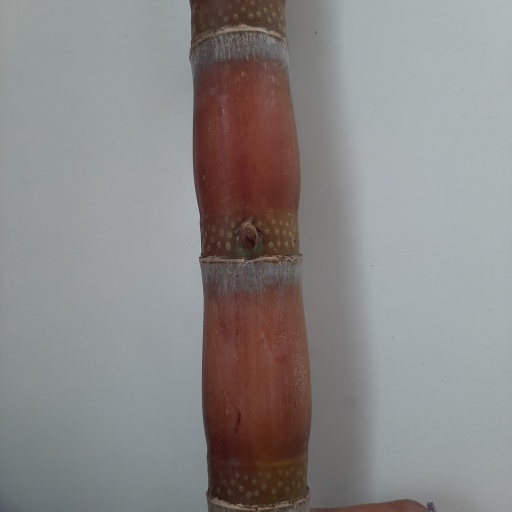Bud: (236, 220, 264, 253)
